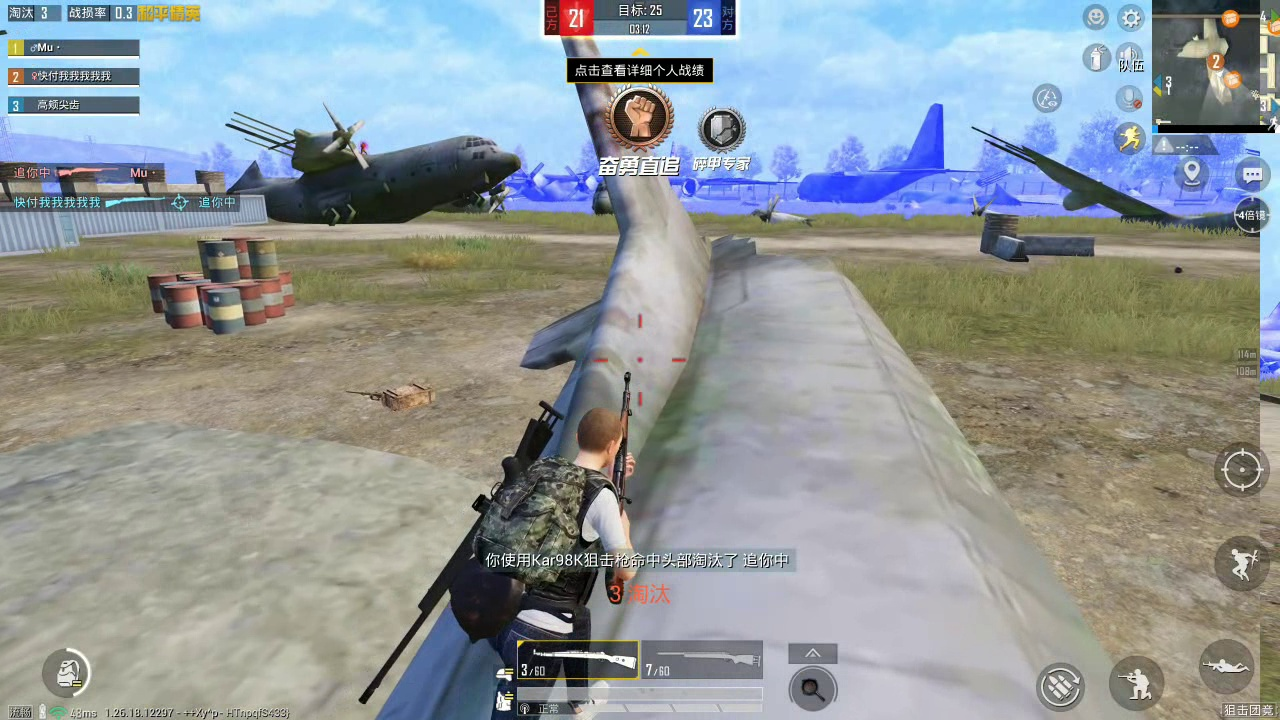enemy: (360, 140, 368, 155)
